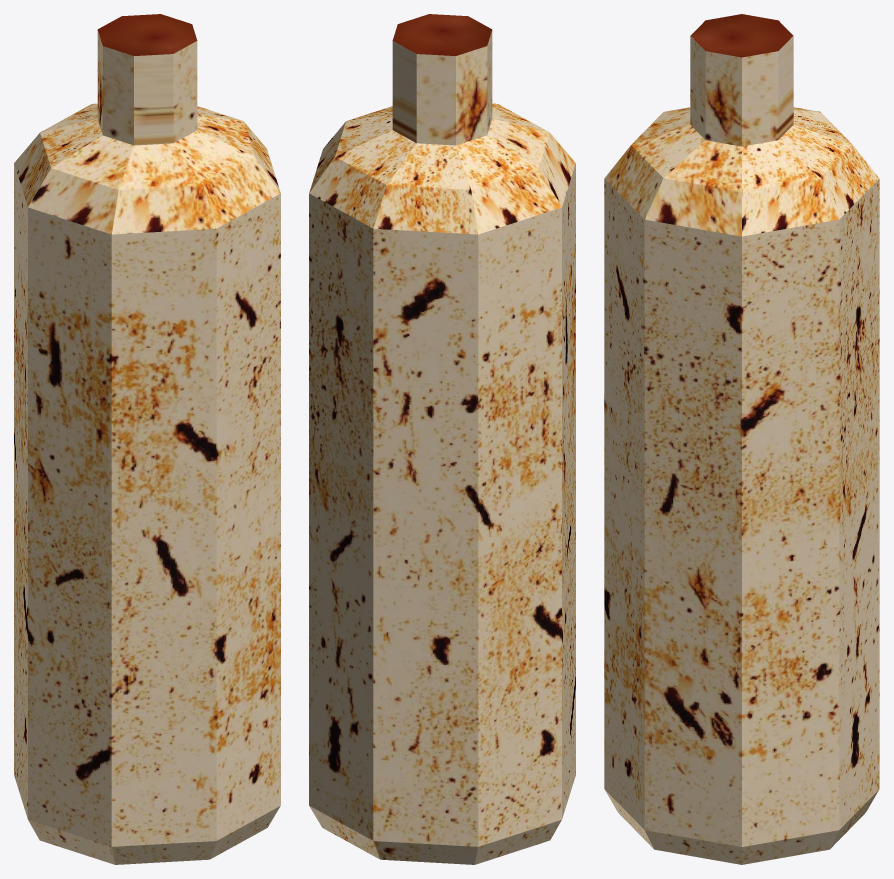
File: ITMI_BOTTLE_EMPTY.glb
The picture shows the model from 3 angles, left to right: view 1: azimuth 30°, elevation 25°; view 2: azimuth 150°, elevation 25°; view 3: azimuth 270°, elevation 25°; orthographic projection.
Visible parts, largest first — view 1: ITMI_BOTTLE_EMPTY; view 2: ITMI_BOTTLE_EMPTY; view 3: ITMI_BOTTLE_EMPTY.
Part boxes in pixels (bbox=[...]): ITMI_BOTTLE_EMPTY: bbox=[14, 14, 280, 864]; ITMI_BOTTLE_EMPTY: bbox=[309, 14, 575, 864]; ITMI_BOTTLE_EMPTY: bbox=[604, 14, 879, 864].
Size of the model in its own units: 0.11 by 0.3425 by 0.11.
Materials: 2 (2 with a texture image).
